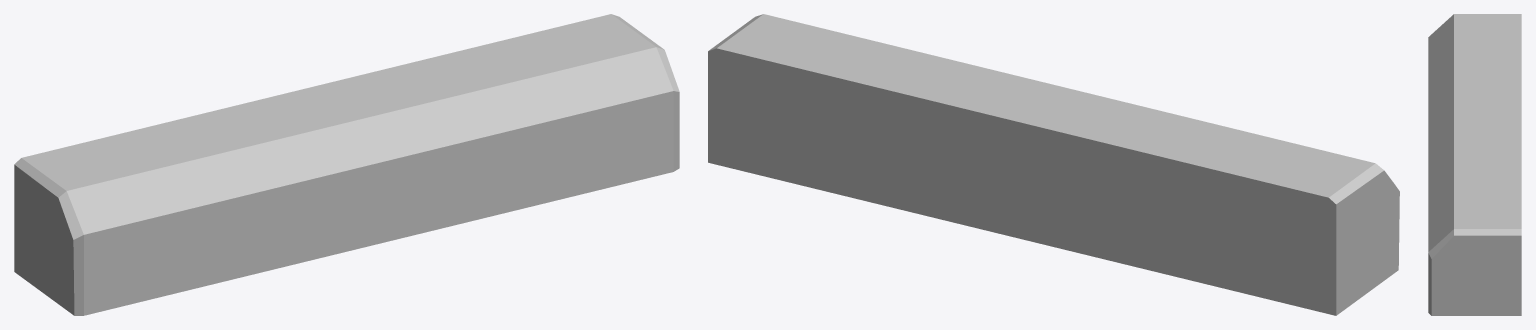
Rendered from SM_Border_01.fbx.
3 views of the same model, side by side, from view 1: azimuth 30°, elevation 25°; view 2: azimuth 150°, elevation 25°; view 3: azimuth 270°, elevation 25° (orthographic). The views are drawn at different scales.
Parts seen in each view (by area): view 1: SM_Border_01; view 2: SM_Border_01; view 3: SM_Border_01.
Boxes of the visible parts, x1,y1,x2,y2 form: SM_Border_01: [14, 14, 679, 315]; SM_Border_01: [708, 14, 1399, 315]; SM_Border_01: [1428, 14, 1521, 315].
Bounding box in the file's own units: 40.07 × 7.09 × 7.16.
